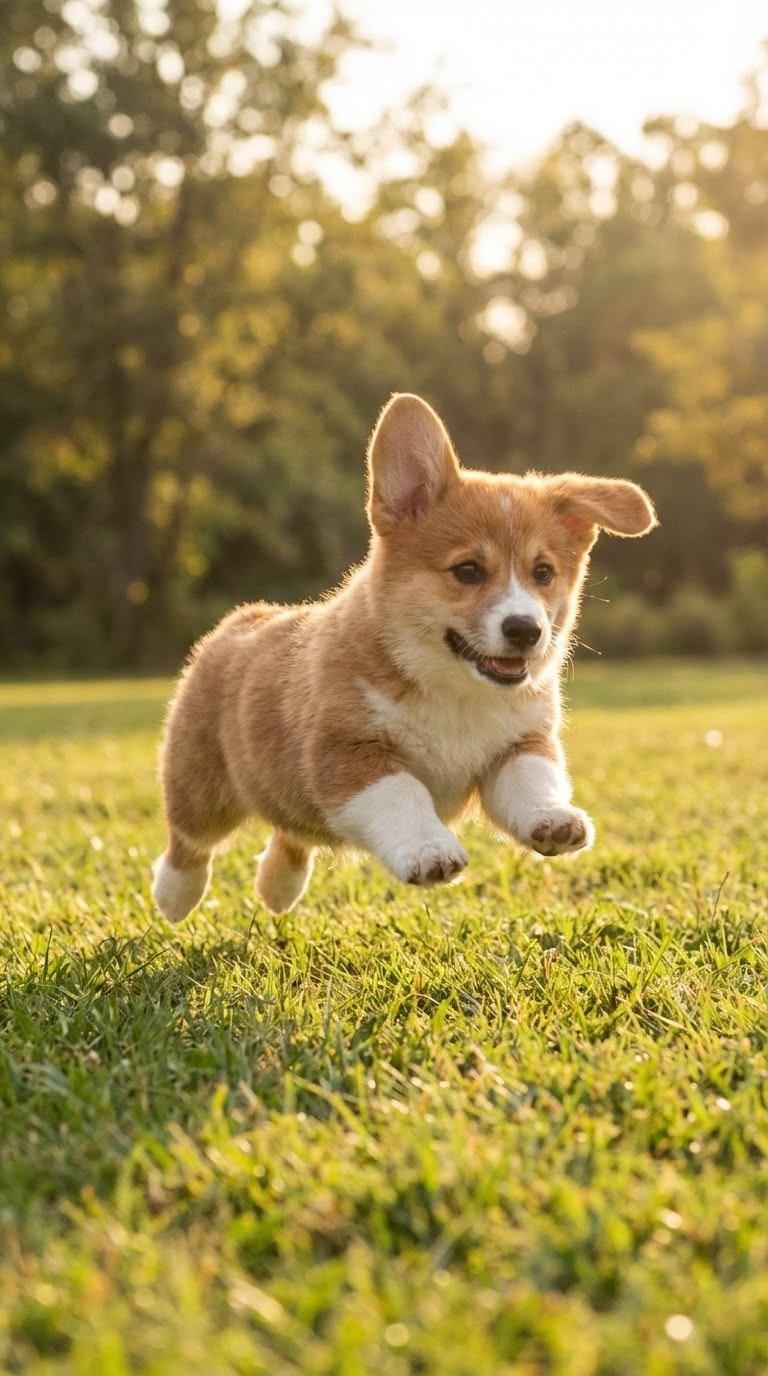puppy-dog: (149, 389, 660, 926)
